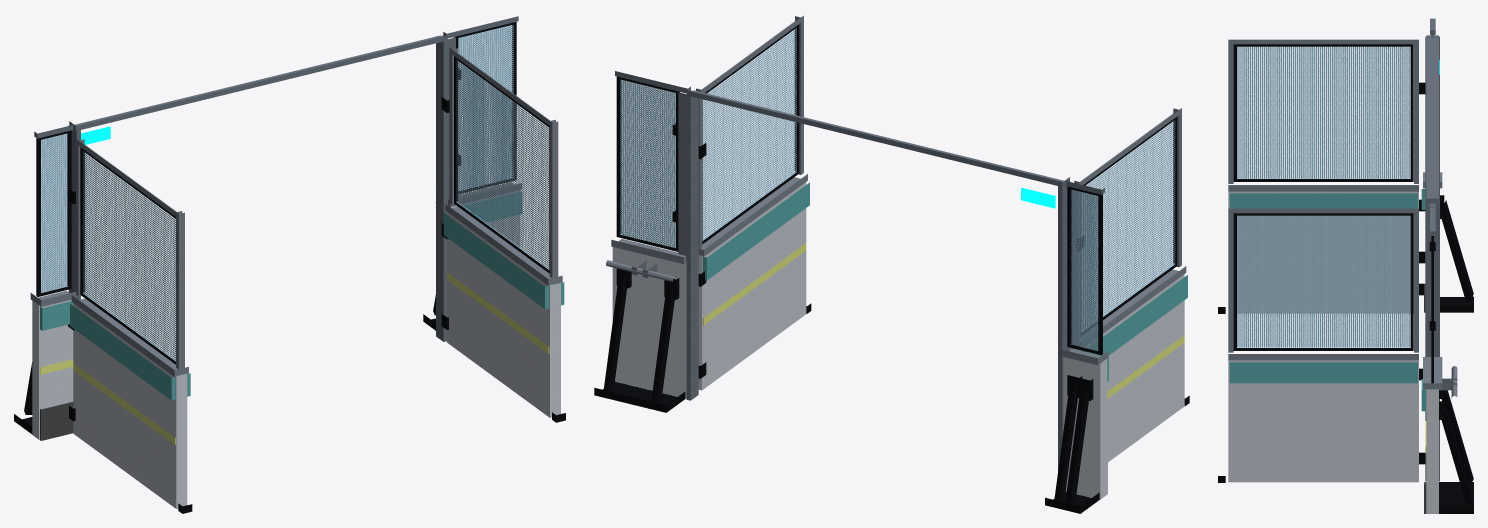
The model's file is tt_rink_board_zamboni.glb.
3 views of the same model, side by side, from view 1: azimuth 30°, elevation 25°; view 2: azimuth 150°, elevation 25°; view 3: azimuth 270°, elevation 25° (orthographic). The views are drawn at different scales.
Parts seen in each view (by area): view 1: Leaf1_Gate_Leaf_Pane_Scissor, Leaf0_Gate_Leaf_Pane_Scissor, Leaf0_Gate_Leaf_Board, Leaf1_Gate_Leaf_Board, Pane_Scissor, Leaf1_Gate_Leaf_Frame, Leaf0_Gate_Leaf_Frame, Board_Shell, Gate_Posts, Gate_Header, Pane_Frit, Leaf1_Gate_Leaf_Pad (+10 smaller); view 2: Leaf1_Gate_Leaf_Pane_Scissor, Pane_Scissor, Leaf0_Gate_Leaf_Pane_Scissor, Board_Shell, Leaf1_Gate_Leaf_Board, Leaf0_Gate_Leaf_Board, Sill_Frame, Gate_Posts, Leaf1_Gate_Leaf_Frame, Leaf0_Gate_Leaf_Frame, Pane_Frit, Gate_Header (+7 smaller); view 3: Leaf0_Gate_Leaf_Pane_Scissor, Leaf1_Gate_Leaf_Pane_Scissor, Leaf1_Gate_Leaf_Board, Leaf0_Gate_Leaf_Board, Leaf1_Gate_Leaf_Pad, Sill_Frame, Leaf0_Gate_Leaf_Frame, Leaf1_Gate_Leaf_Frame, Leaf0_Gate_Leaf_Pad, Gate_Header, Leaf0_Gate_Leaf_Pane_Frit, Leaf1_Gate_Leaf_Pane_Frit (+5 smaller).
Boxes of the visible parts, <box> form: Leaf1_Gate_Leaf_Pane_Scissor: <box>456,60,549,269</box>; Leaf0_Gate_Leaf_Pane_Scissor: <box>82,151,175,360</box>; Leaf0_Gate_Leaf_Board: <box>73,303,187,508</box>; Leaf1_Gate_Leaf_Board: <box>447,212,560,417</box>; Pane_Scissor: <box>41,25,513,292</box>; Leaf1_Gate_Leaf_Frame: <box>445,47,562,285</box>; Leaf0_Gate_Leaf_Frame: <box>71,139,188,376</box>; Board_Shell: <box>32,190,520,439</box>; Gate_Posts: <box>68,36,447,341</box>; Gate_Header: <box>69,35,447,130</box>; Pane_Frit: <box>36,22,516,296</box>; Leaf1_Gate_Leaf_Pad: <box>443,213,564,309</box>; Leaf1_Gate_Leaf_Pane_Scissor: <box>702,27,796,240</box>; Pane_Scissor: <box>620,79,1098,350</box>; Leaf0_Gate_Leaf_Pane_Scissor: <box>1081,120,1175,330</box>; Board_Shell: <box>612,247,1107,499</box>; Leaf1_Gate_Leaf_Board: <box>698,182,806,390</box>; Leaf0_Gate_Leaf_Board: <box>1070,274,1184,462</box>; Sill_Frame: <box>594,268,1099,513</box>; Gate_Posts: <box>686,91,1070,470</box>; Leaf1_Gate_Leaf_Frame: <box>696,15,807,256</box>; Leaf0_Gate_Leaf_Frame: <box>1071,108,1186,347</box>; Pane_Frit: <box>616,76,1102,355</box>; Gate_Header: <box>686,90,1069,186</box>; Leaf0_Gate_Leaf_Pane_Scissor: <box>1237,46,1410,178</box>; Leaf1_Gate_Leaf_Pane_Scissor: <box>1237,215,1410,347</box>; Leaf1_Gate_Leaf_Board: <box>1228,360,1418,482</box>; Leaf0_Gate_Leaf_Board: <box>1228,191,1418,313</box>; Leaf1_Gate_Leaf_Pad: <box>1229,362,1417,383</box>; Sill_Frame: <box>1439,195,1473,513</box>; Leaf0_Gate_Leaf_Frame: <box>1228,39,1418,191</box>; Leaf1_Gate_Leaf_Frame: <box>1228,208,1418,360</box>; Leaf0_Gate_Leaf_Pad: <box>1229,193,1417,213</box>; Gate_Header: <box>1426,35,1438,203</box>; Leaf0_Gate_Leaf_Pane_Frit: <box>1233,44,1413,181</box>; Leaf1_Gate_Leaf_Pane_Frit: <box>1233,213,1413,350</box>.
Size of what is drawn, in the model's own units: 4 by 2.42 by 1.99.
10 materials, 6 textured.
